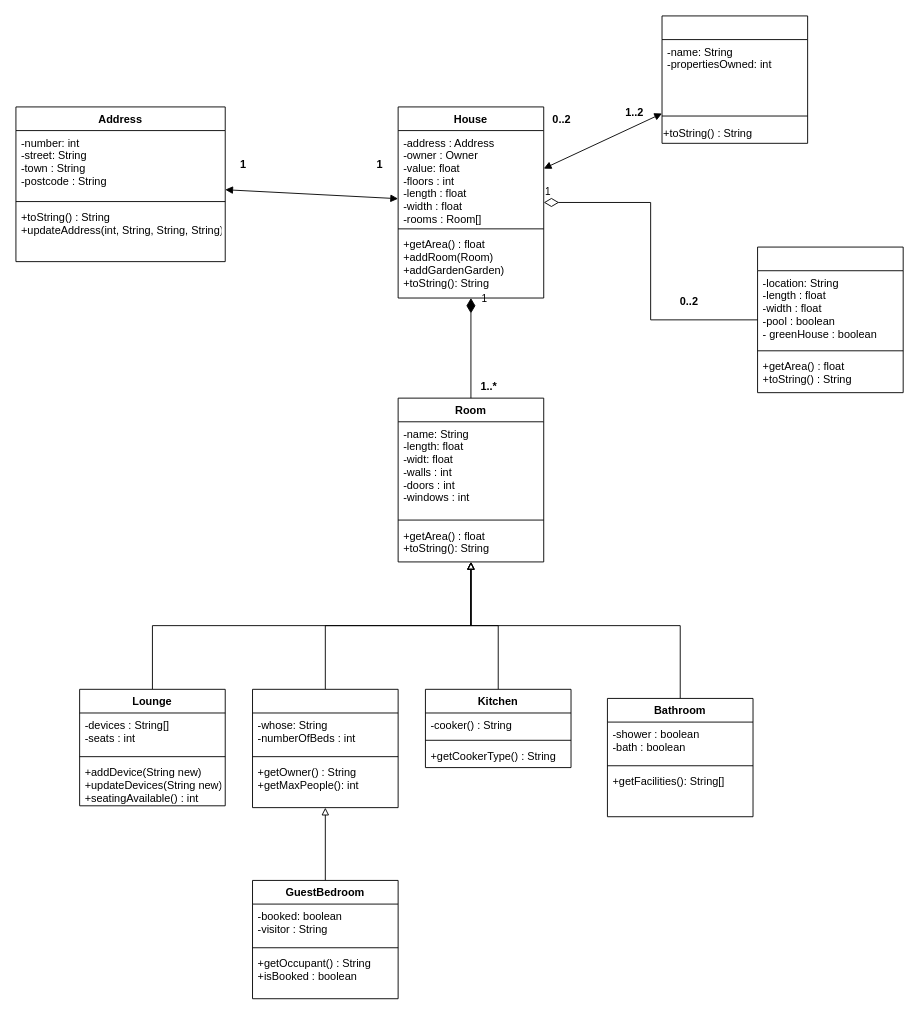
Image size: 919x1017. Some labels were removed from this diagram. The shapes that lost their labels are listed below. From the top down, each one's box as (x1, y1, x2, y2) in pixels, then its label:
(661, 15, 808, 143): Owner
(757, 246, 903, 393): Garden
(252, 688, 398, 808): Bedroom
